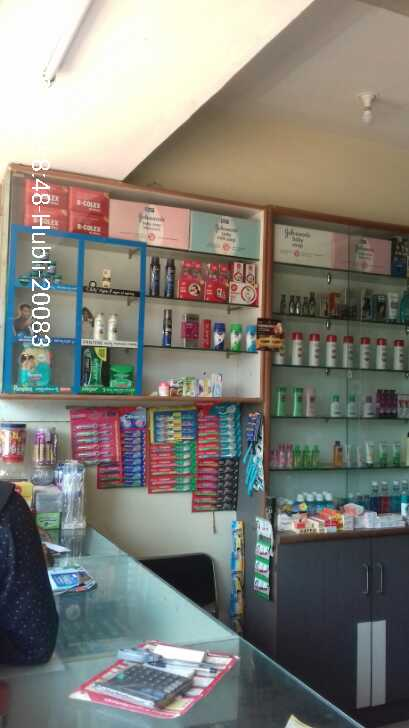oralcare: (72, 415, 117, 466), (200, 404, 240, 459), (152, 446, 194, 494), (152, 410, 194, 443), (121, 431, 143, 486), (373, 480, 406, 512), (299, 490, 333, 511)
vicks: (26, 243, 64, 282)
